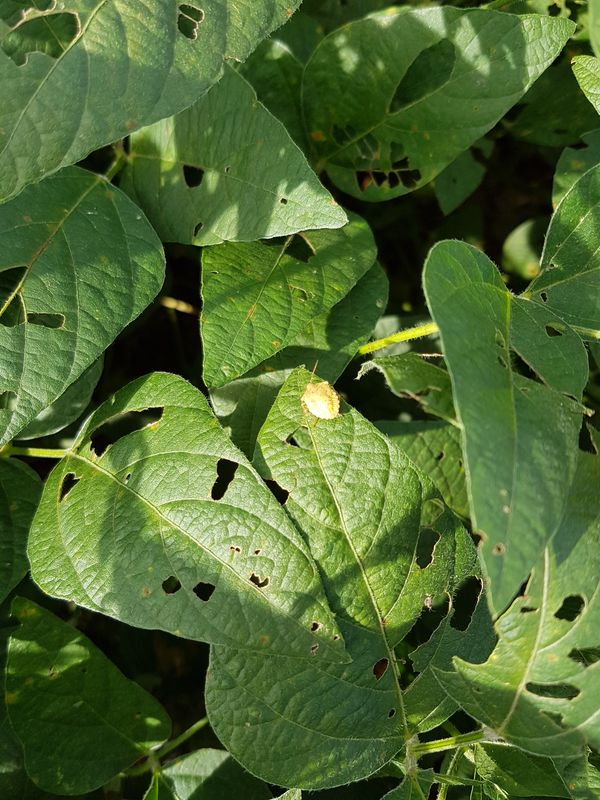Euschistus_heros_ninfa: (285, 361, 358, 434)
